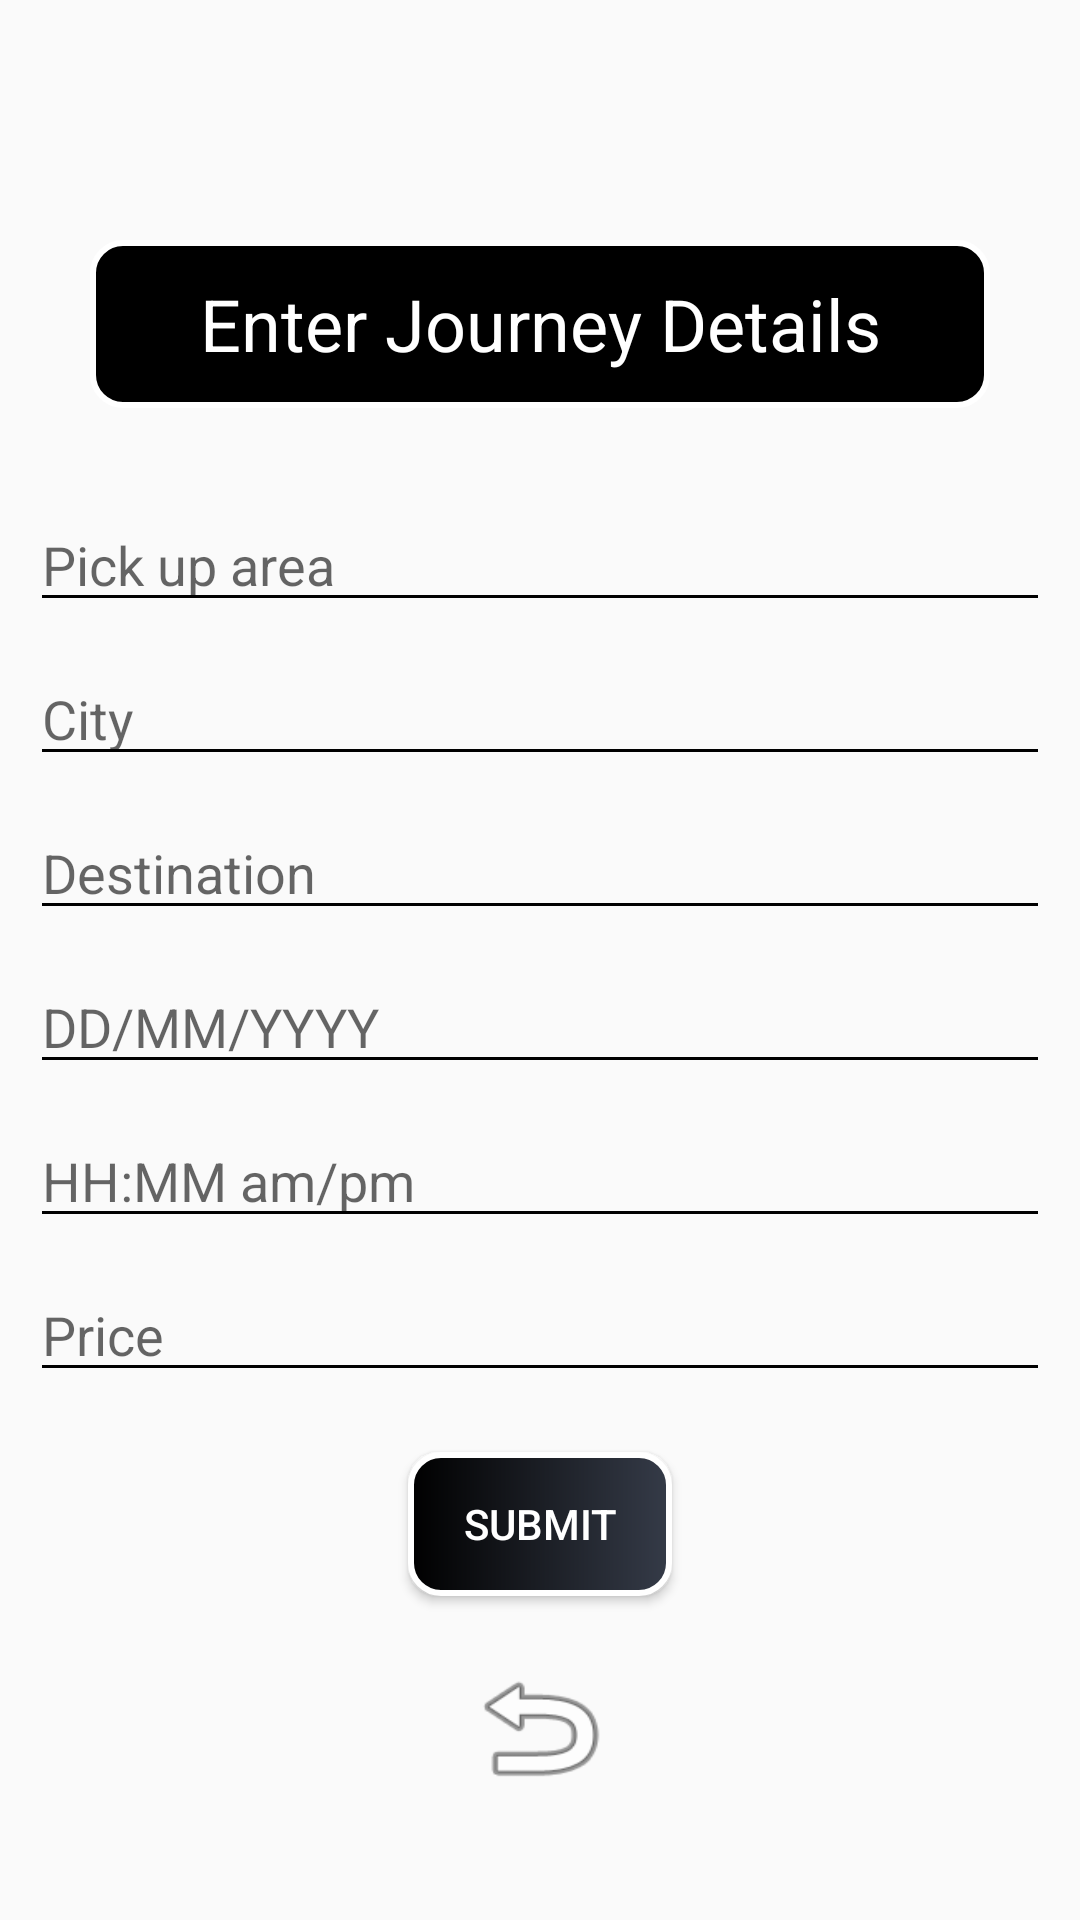

Screen size 1080px x 1920px. Icon name, then its box in pixels as rect(x1, y1, x2, y2):
revert: rect(484, 1682, 599, 1776)
